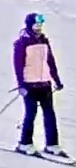skier: (0, 11, 76, 166)
